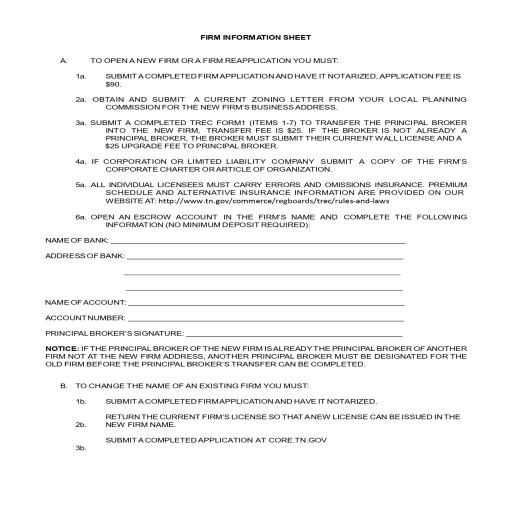Address: (42, 249, 126, 262)
Signature: (42, 324, 185, 340)
free_text: (41, 311, 127, 323), (42, 296, 127, 308), (43, 235, 110, 246)
